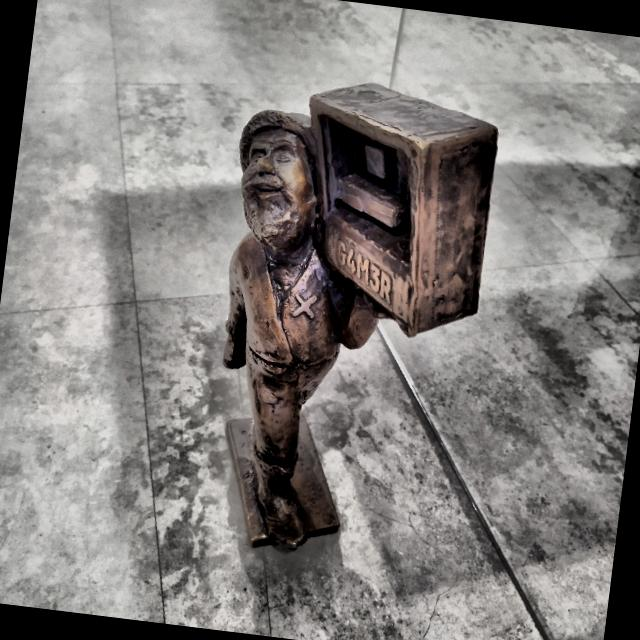GigaHercjusz: (223, 83, 497, 548)
